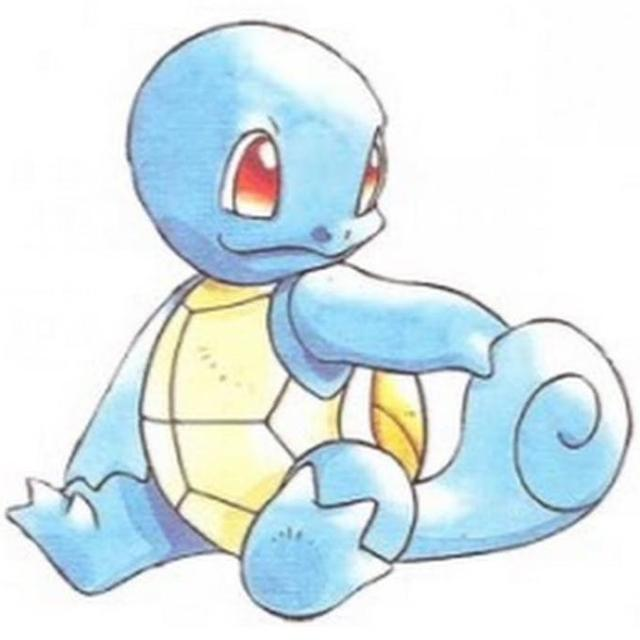Squirtle: (115, 18, 431, 596)
